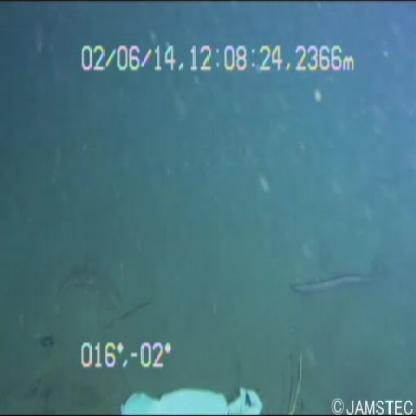Rác: (114, 375, 265, 416)
